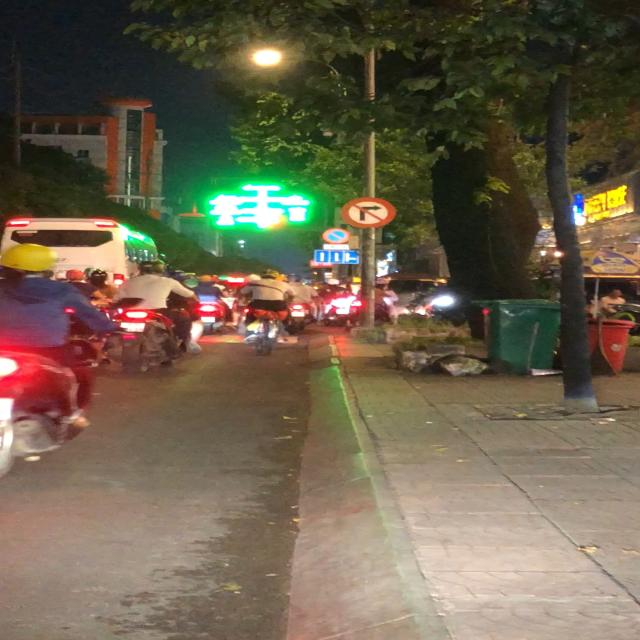Bien bao cam re phai: (339, 195, 398, 229)
